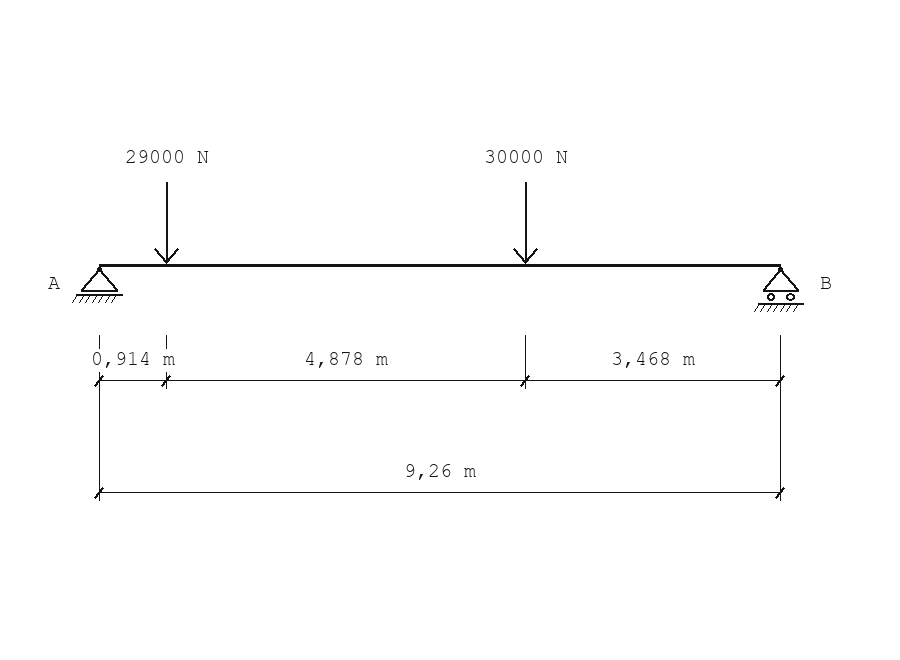pin_support: (72, 267, 123, 303)
point_load: (154, 182, 179, 264), (513, 182, 538, 264)
roller_support: (754, 267, 804, 312)
